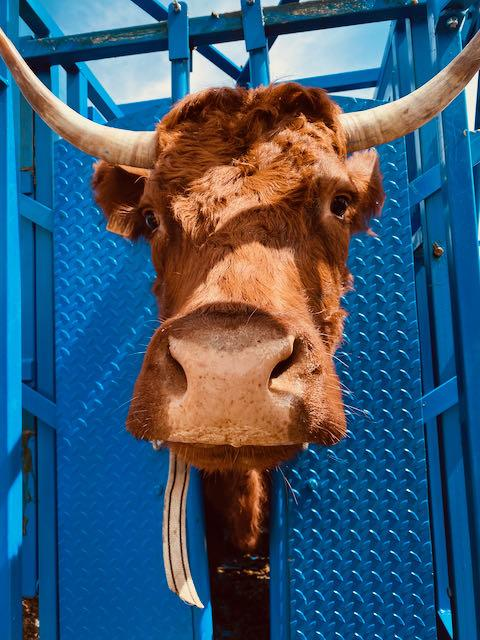muzzles: (111, 322, 368, 471)
